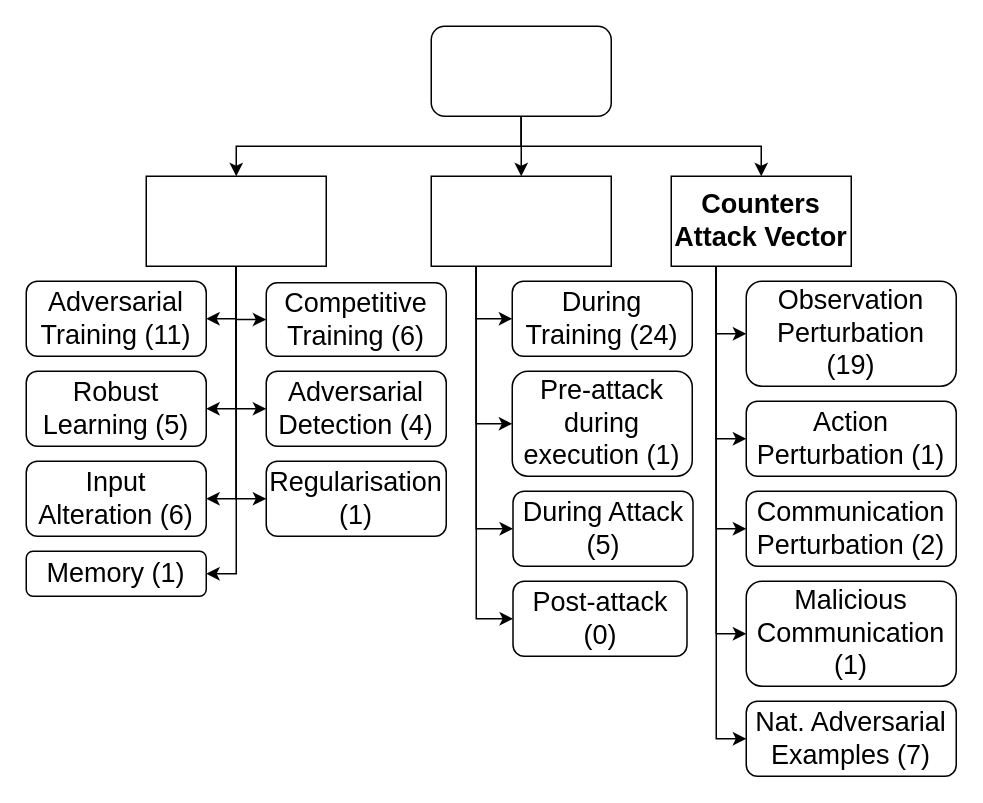
The diagram is 983 pixels wide and 803 high, and some of its shapes have lost their labels. Each missing label, with the centre of its shape:
AML Defence (29): the point at 520,70
Time of Defence: the point at 520,220
Type of Defence: the point at 235,220
